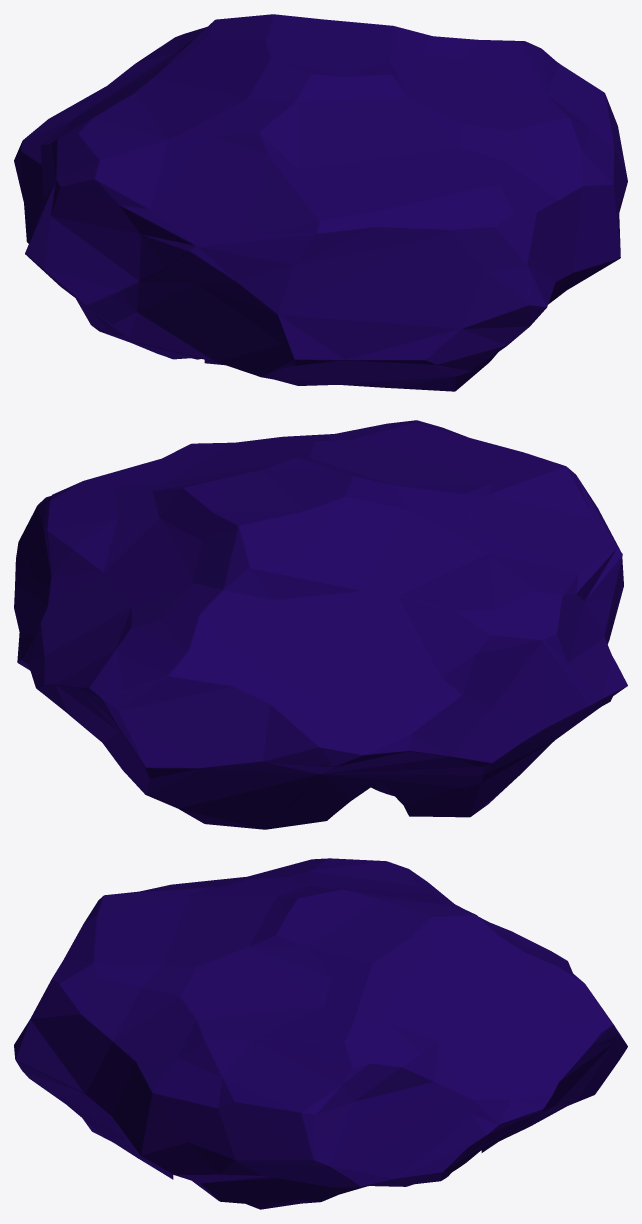
The picture shows the model from 3 angles, top to bottom: view 1: azimuth 30°, elevation 25°; view 2: azimuth 150°, elevation 25°; view 3: azimuth 270°, elevation 25°; orthographic projection. The views are drawn at different scales.
Parts seen in each view (by area): view 1: Cube.007; view 2: Cube.007; view 3: Cube.007.
Boxes of the visible parts, x1,y1,x2,y2 form: Cube.007: (14,14,627,391); Cube.007: (14,420,627,829); Cube.007: (14,858,627,1209).
Size of the model in its own units: 2 by 0.936 by 2.04.
